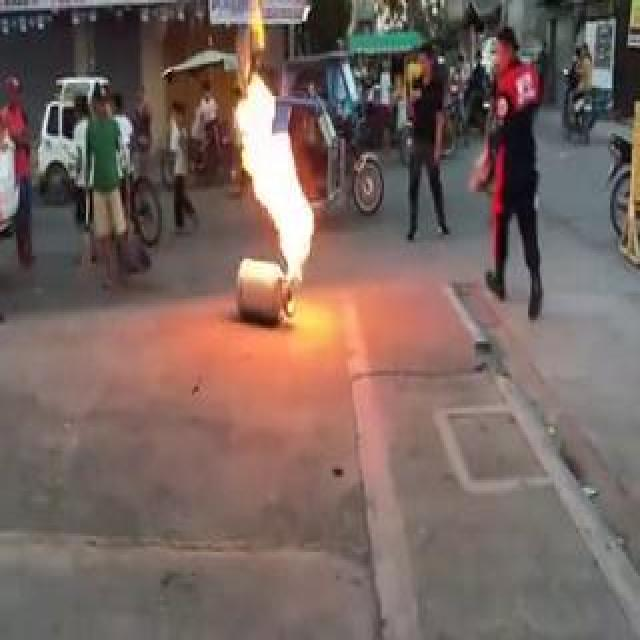Fire: (234, 70, 316, 278)
